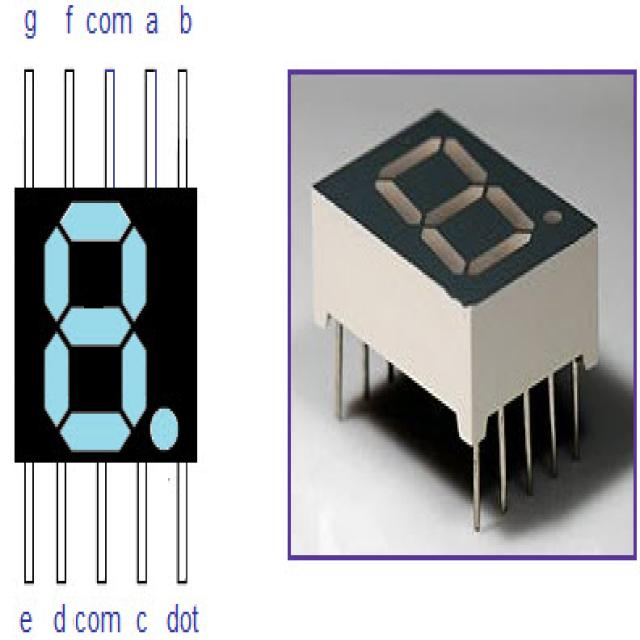Display: (304, 103, 602, 467)
